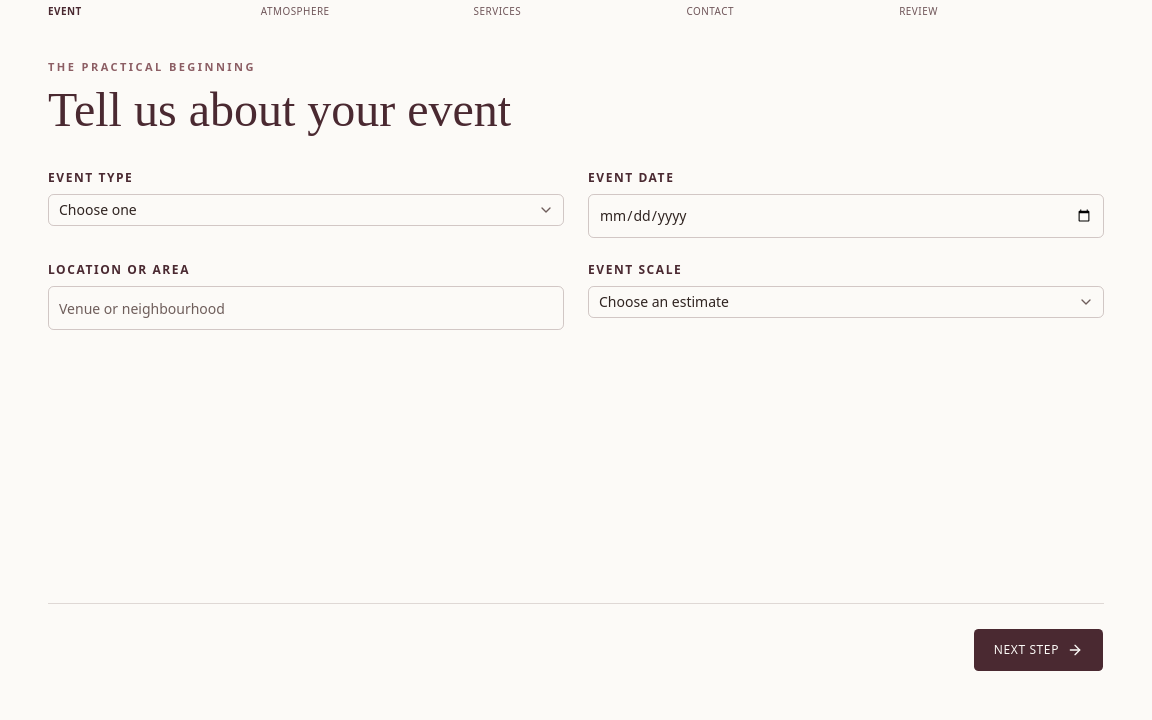
it: EventConfigurator › blocks an incomplete step and moves forward once event details are supplied
(page scrolled)
Expected: the heading "Tell us about your event" is shown, [48,83,511,136]
Click the button "Next step" at (1038, 650), box [973,628,1104,672]
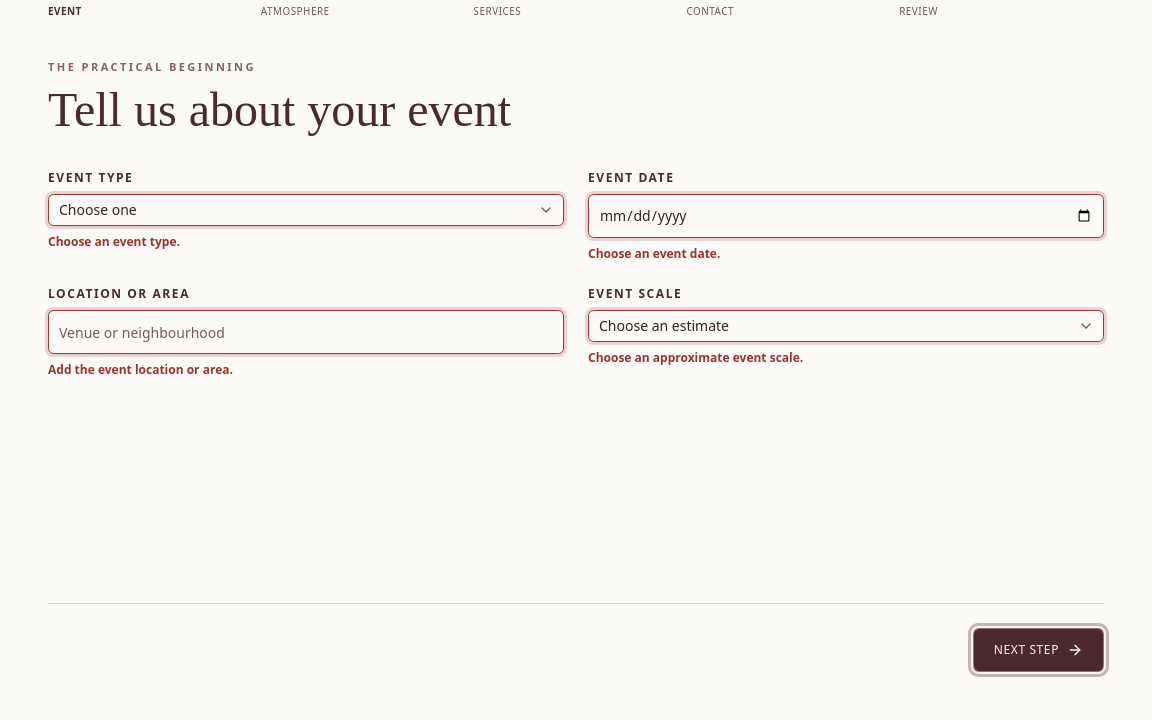
Result: the text "Choose an event type." is shown at [48,233,180,250]
Select "Wedding" in the dropdown labelled "Event type" at (306, 210), box [48,194,564,226]
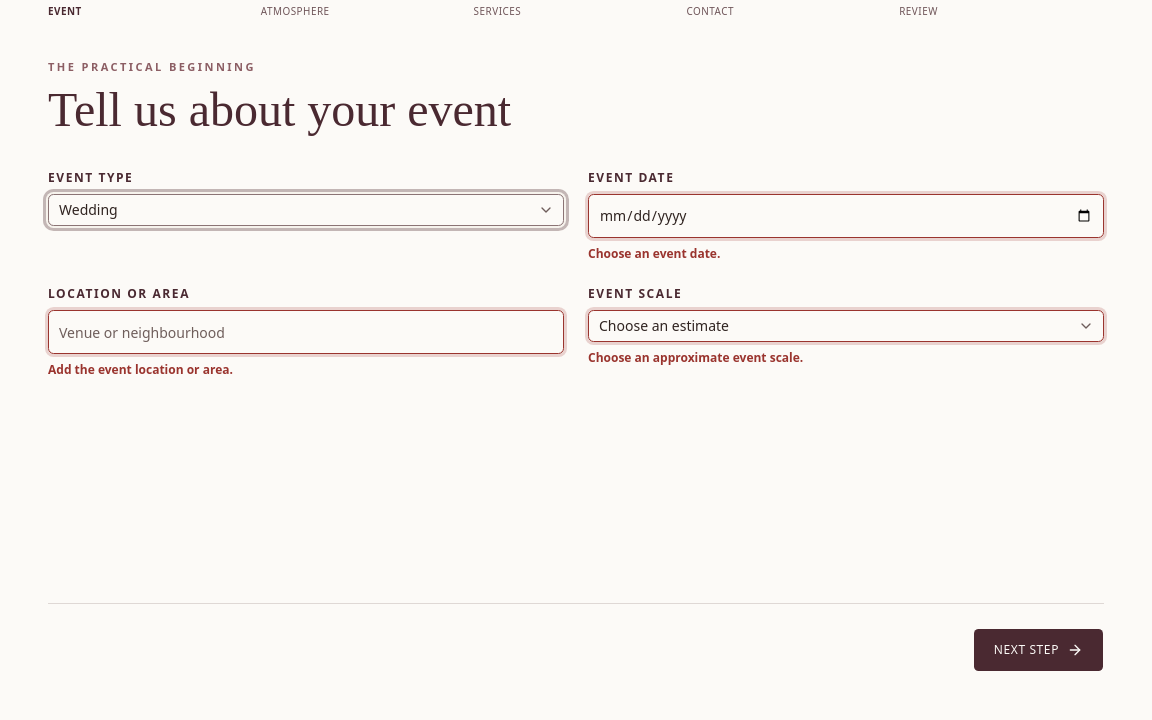
Type "2026-12-12" into the date field labelled "Event date" at (846, 216), box [588,194,1104,238]
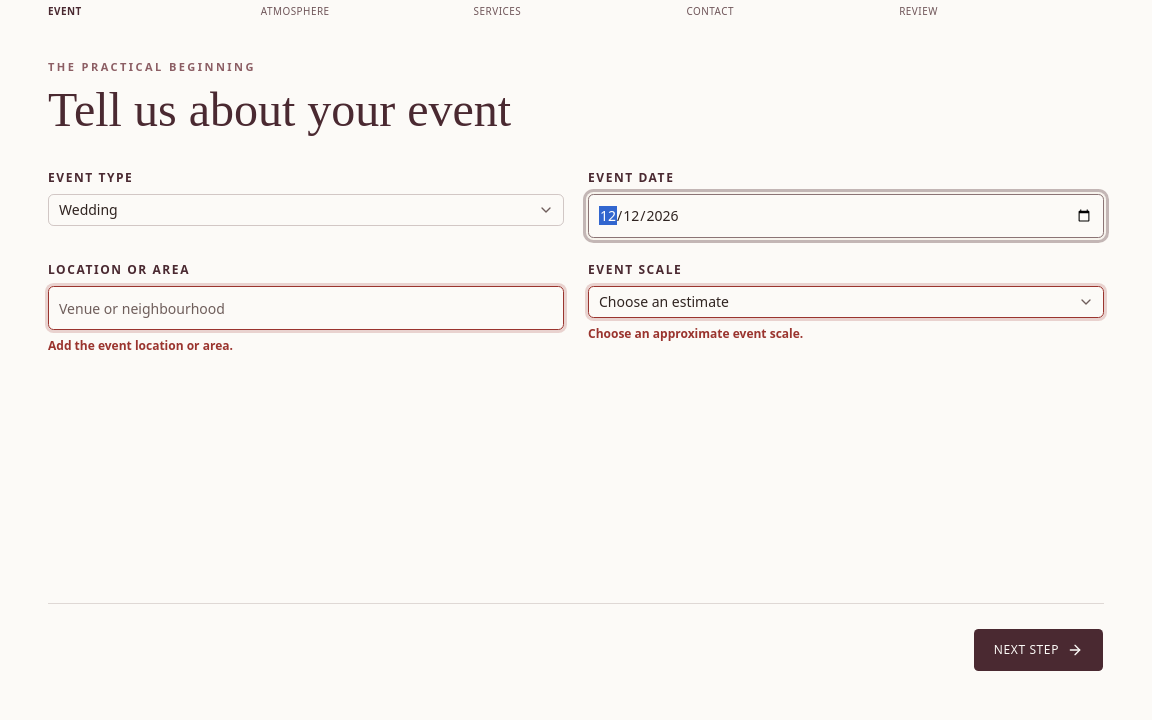
Type "Kuala Lumpur" into the field labelled "Location or area" at (306, 308), box [48,286,564,330]
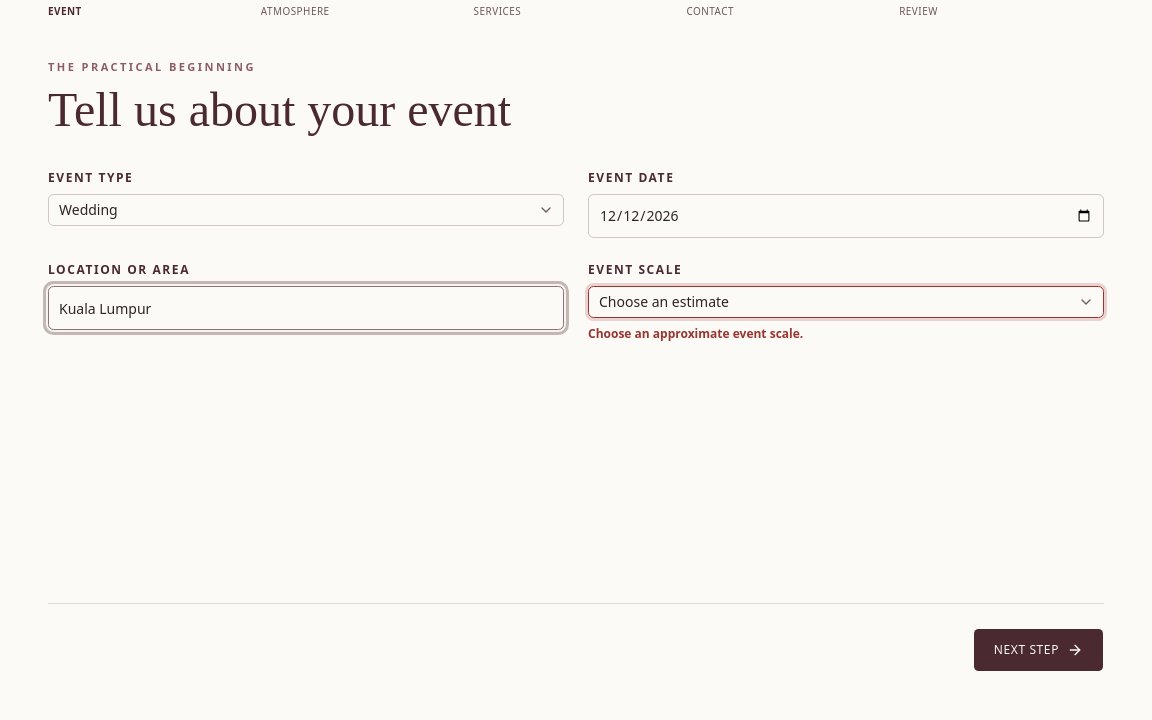
Select "51–100 guests" in the dropdown labelled "Event scale" at (846, 302), box [588,286,1104,318]
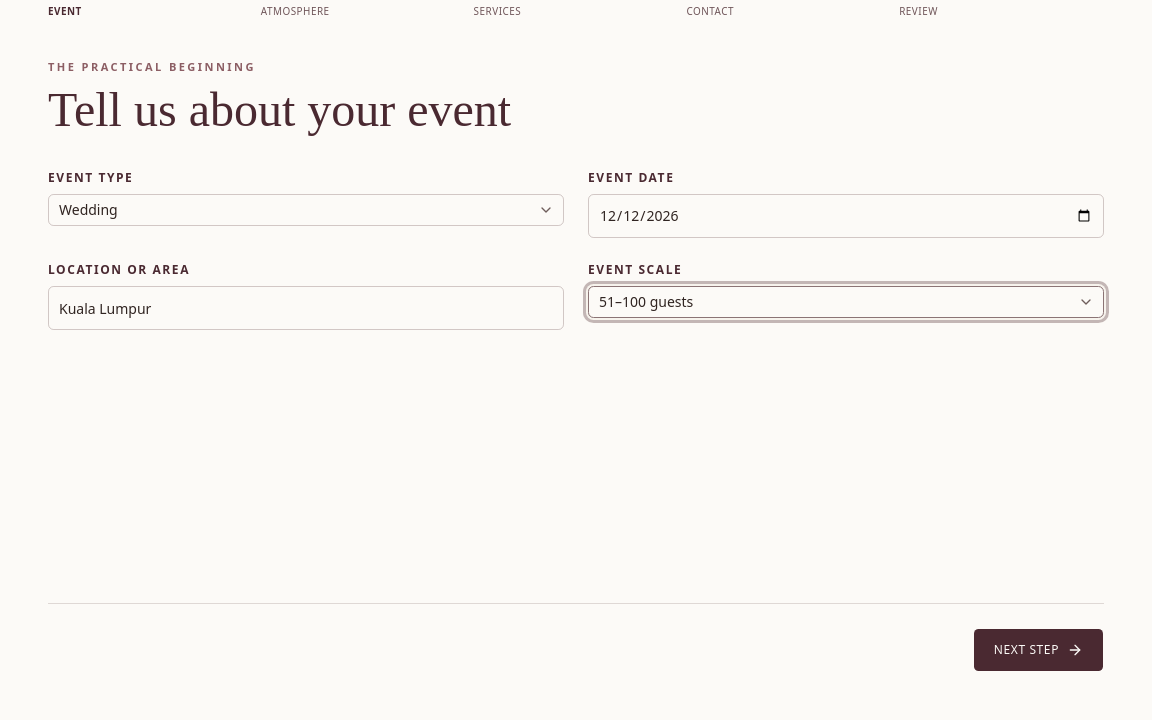
Click the button "Next step" at (1038, 650), box [973,628,1104,672]
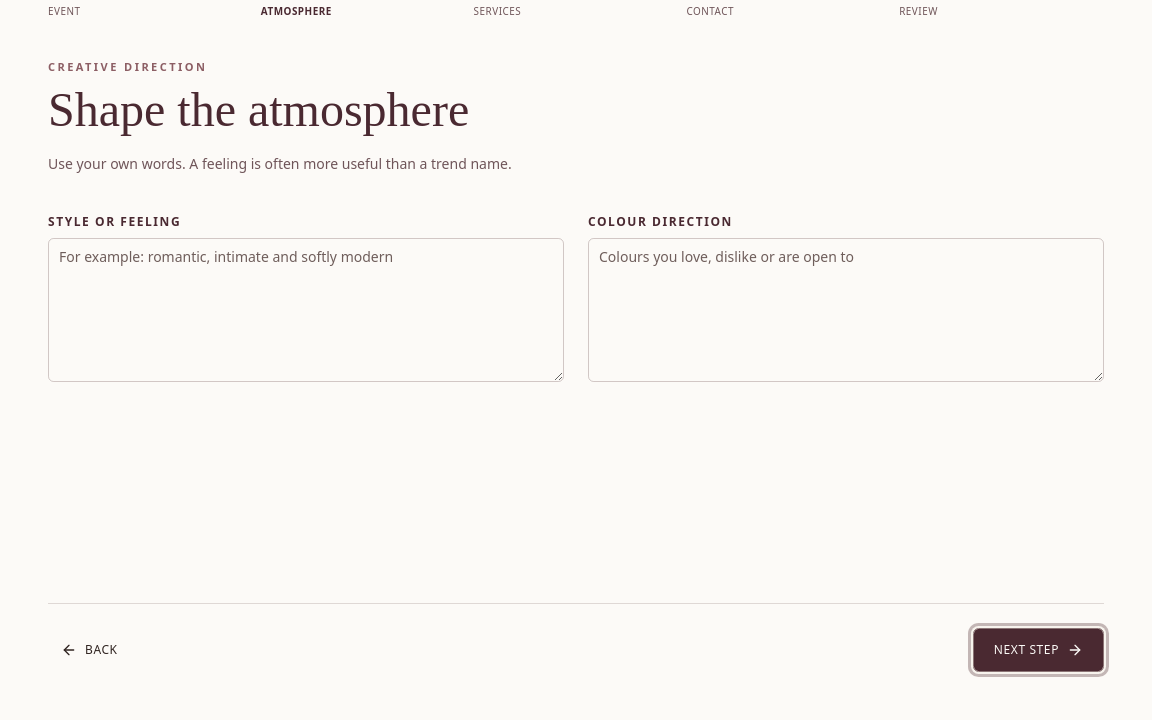
Result: the heading "Shape the atmosphere" is shown at [48,83,469,136]
